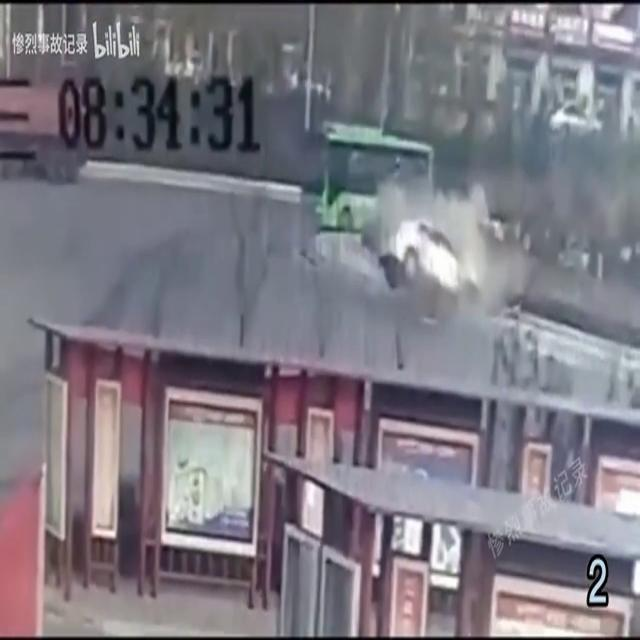accident: (368, 176, 499, 332)
